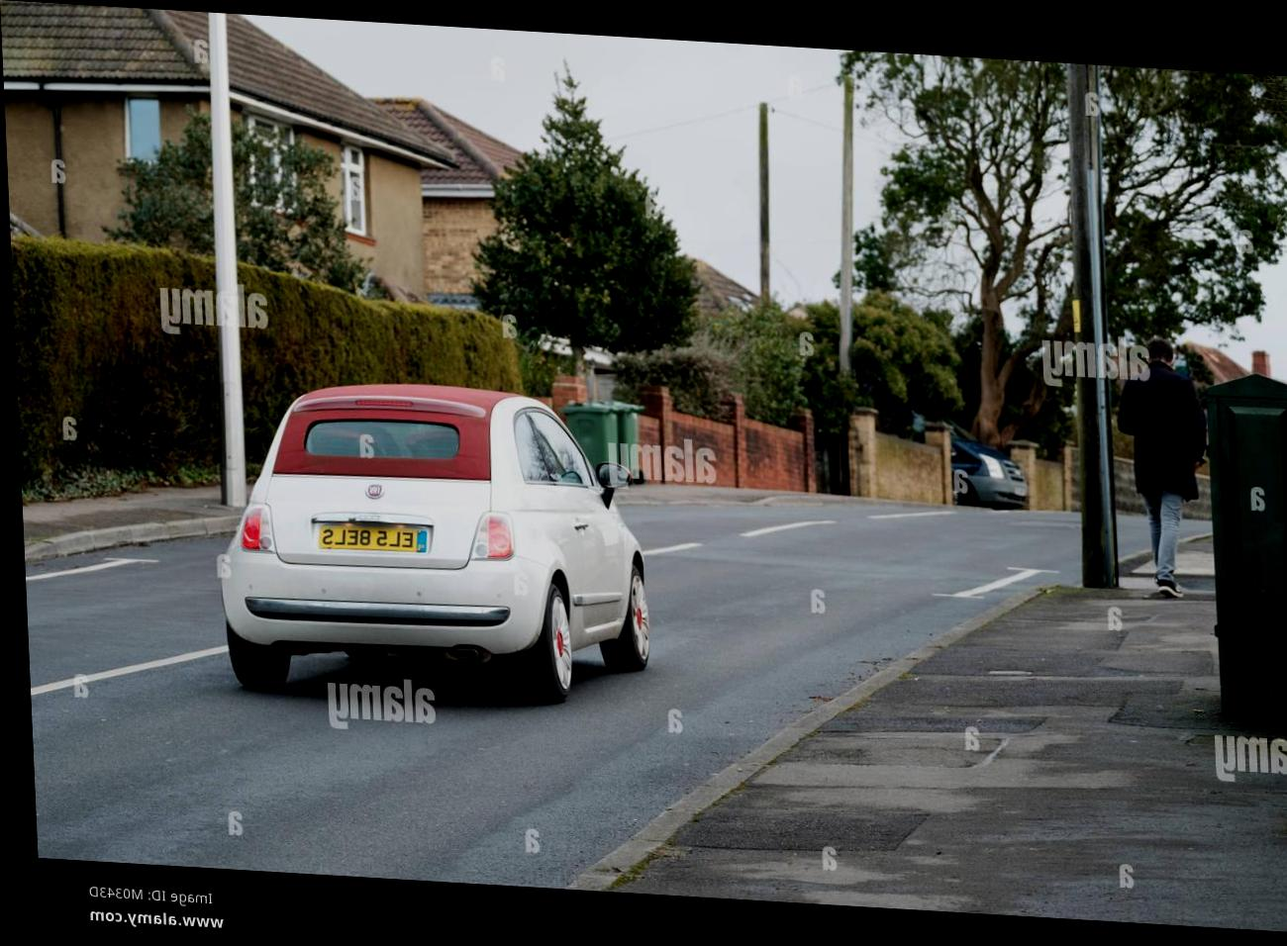License_Plate: (316, 521, 431, 556)
